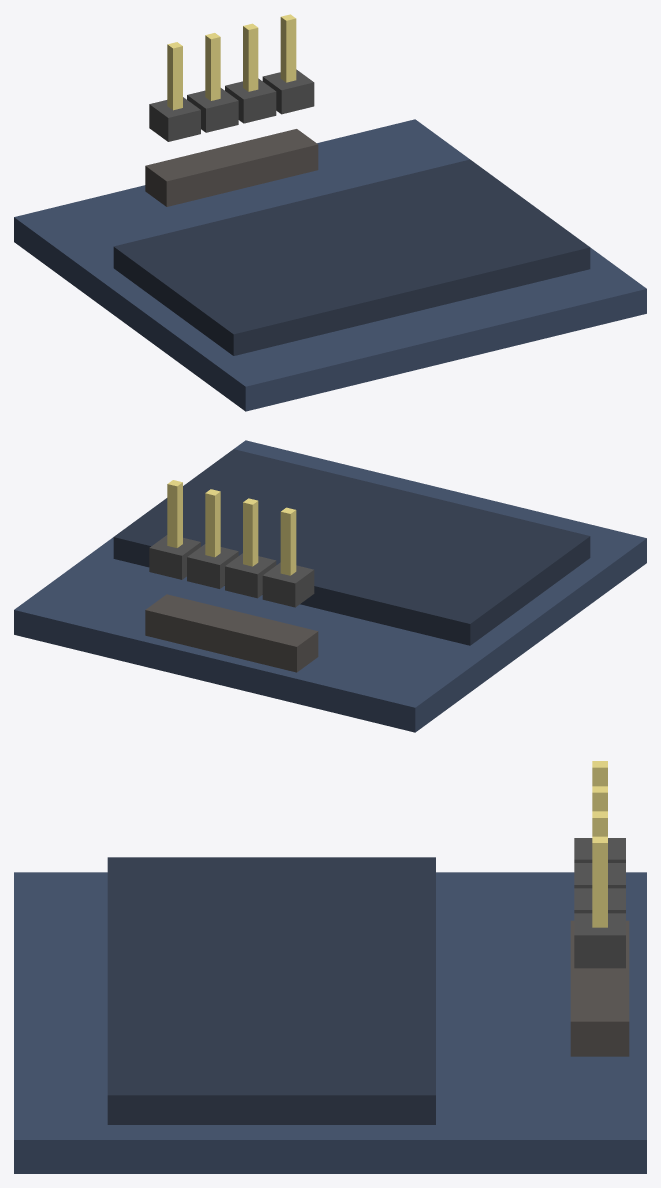
The model's file is ssd1306.glb.
The picture shows the model from 3 angles, top to bottom: view 1: azimuth 30°, elevation 25°; view 2: azimuth 150°, elevation 25°; view 3: azimuth 270°, elevation 25°; orthographic projection. The views are drawn at different scales.
Parts seen in each view (by area): view 1: oled-ssd1306-i2c_mesh; view 2: oled-ssd1306-i2c_mesh; view 3: oled-ssd1306-i2c_mesh.
Boxes of the visible parts, left/top/right/bottom form: oled-ssd1306-i2c_mesh: left=14, top=14, right=646, bottom=411; oled-ssd1306-i2c_mesh: left=14, top=440, right=646, bottom=732; oled-ssd1306-i2c_mesh: left=14, top=761, right=646, bottom=1173.
Size of the model in its own units: 27 by 11.2 by 27.
